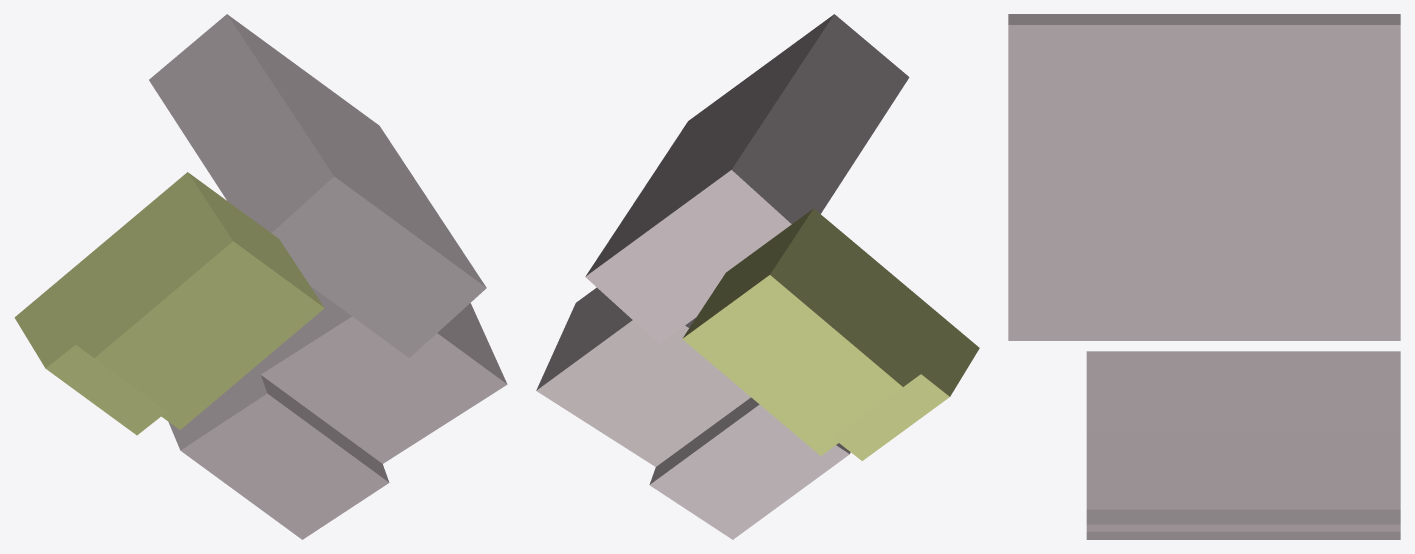
3 renders of one model, left to right at view 1: azimuth 30°, elevation 25°; view 2: azimuth 150°, elevation 25°; view 3: azimuth 270°, elevation 25°, orthographic. The views are drawn at different scales.
Parts seen in each view (by area): view 1: 0_1_3_2_2_1_2_2_1_0; view 2: 0_1_3_2_2_1_2_2_1_0; view 3: 0_1_3_2_2_1_2_2_1_0.
Part boxes in pixels (x1,y1,x2,y2): 0_1_3_2_2_1_2_2_1_0: [14, 14, 507, 539]; 0_1_3_2_2_1_2_2_1_0: [536, 14, 979, 539]; 0_1_3_2_2_1_2_2_1_0: [1008, 14, 1400, 539].
Bounding box in the file's own units: 21.06 × 23.07 × 15.
